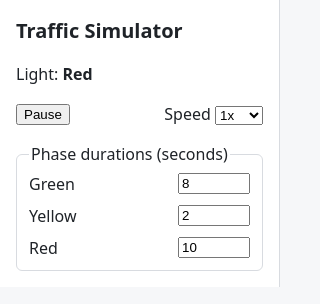
Test case: ControlPanel › toggles pause from the button
Click the button "Pause": point(43, 114) [16, 104, 70, 124]
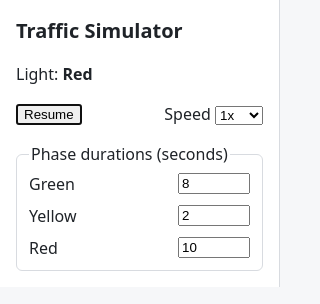
Check: the button "Resume" is shown, box [16, 104, 82, 124]
